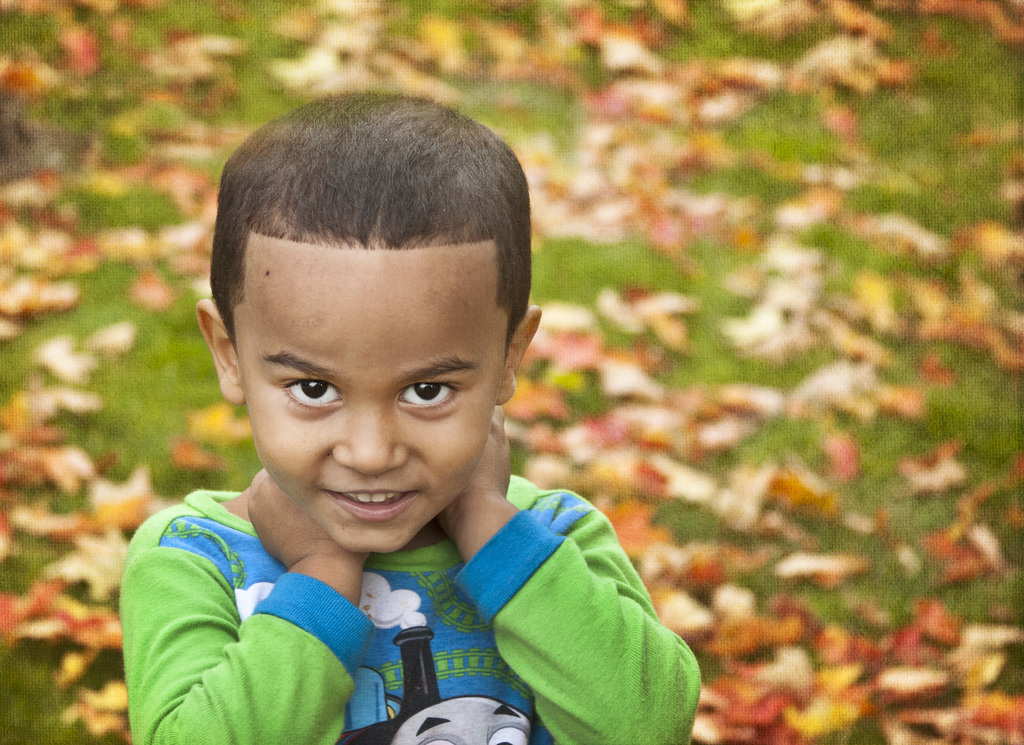Human-face: (232, 248, 509, 555), (392, 696, 540, 744)
